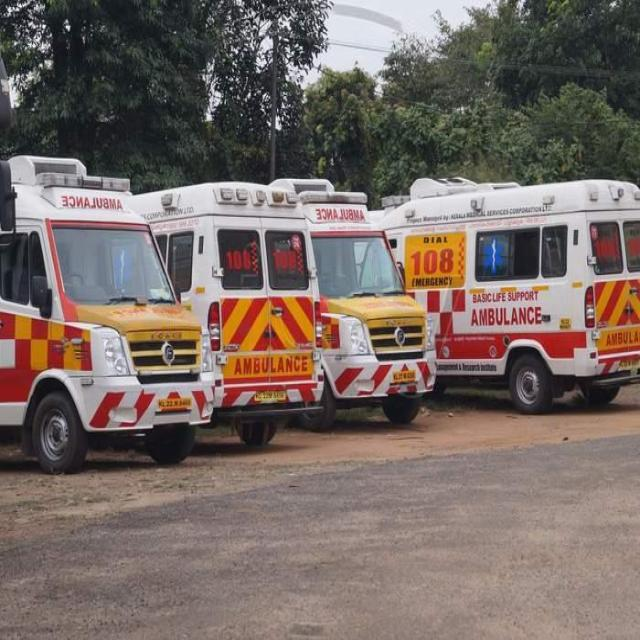emergency: (0, 157, 212, 472), (372, 178, 640, 412), (131, 181, 324, 446), (270, 178, 435, 430)
